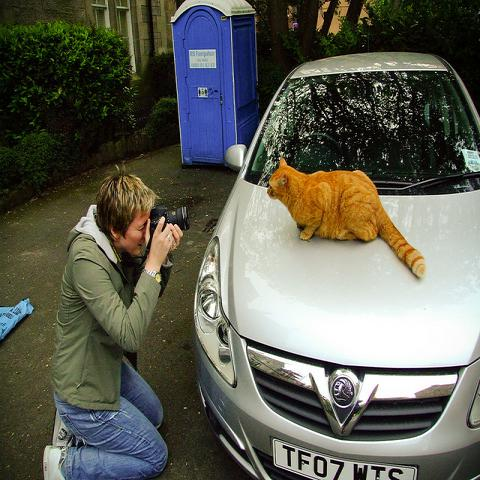car: (190, 55, 480, 476)
